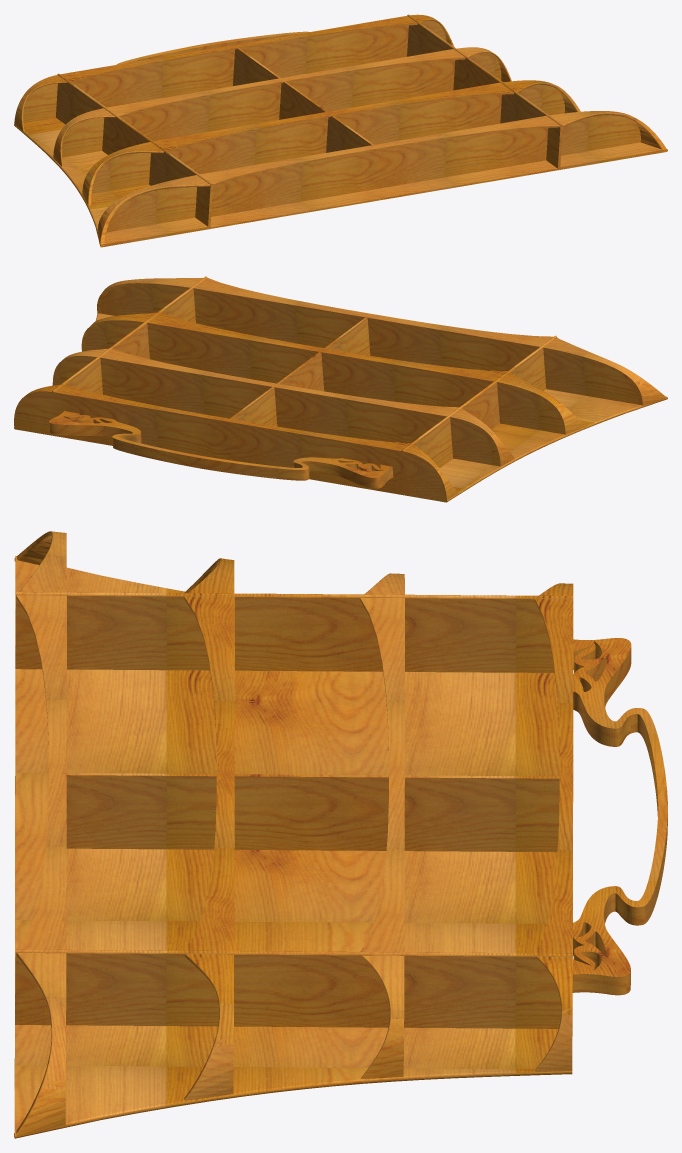
Rendered from shelf1.obj.
3 renders of one model, top to bottom at view 1: azimuth 30°, elevation 25°; view 2: azimuth 150°, elevation 25°; view 3: azimuth 270°, elevation 25°, orthographic. The views are drawn at different scales.
Visible parts, largest first — view 1: polka; view 2: polka; view 3: polka.
Boxes of the visible parts, <box> form: polka: <box>14,14,667,247</box>; polka: <box>14,276,667,502</box>; polka: <box>14,531,667,1138</box>.
Size of the model in its own units: 49.46 by 6.6 by 27.17.
Materials: 1 (1 with a texture image).
